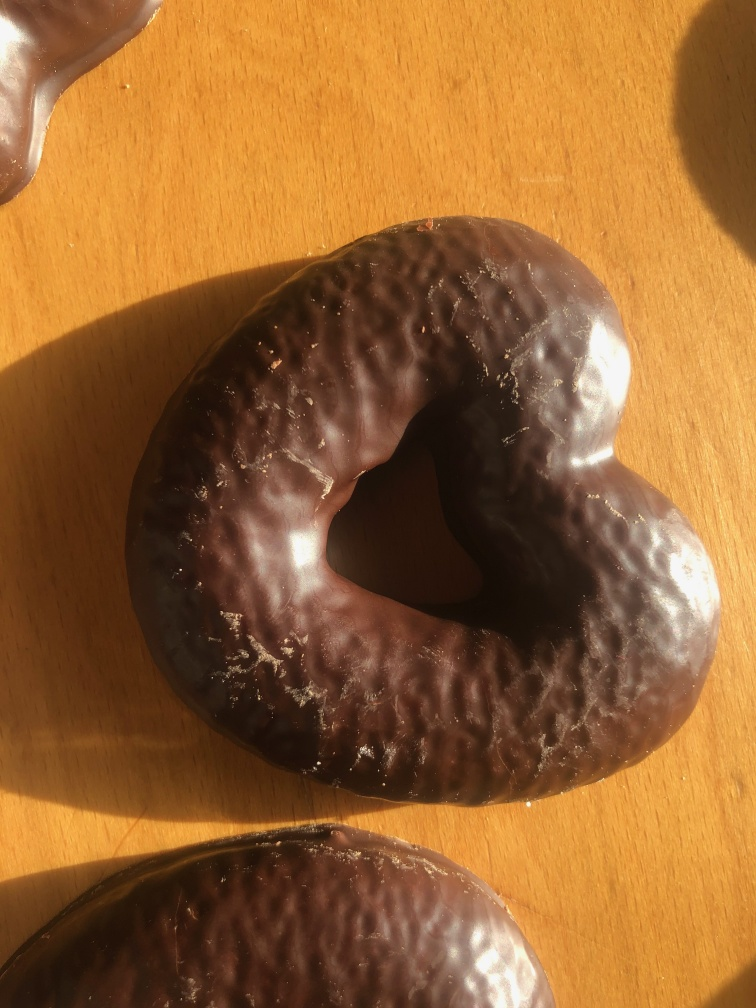heart: (119, 208, 724, 818)
